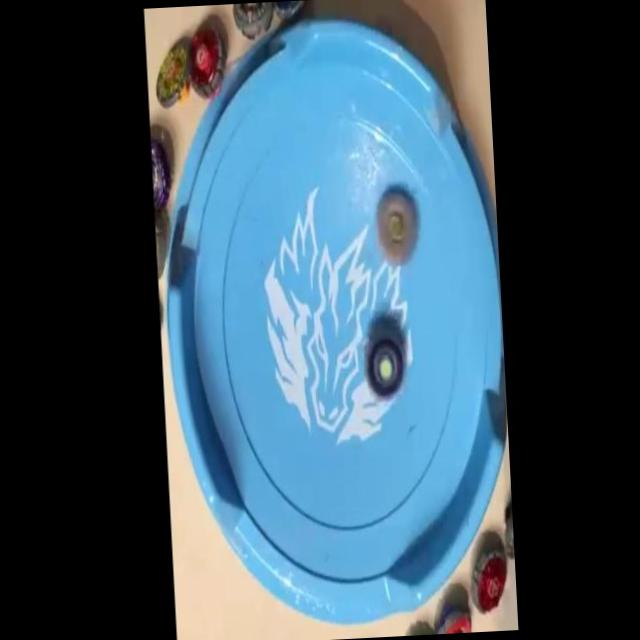Beyblade: (362, 327, 407, 402), (185, 23, 228, 100), (374, 192, 418, 264), (468, 544, 511, 617), (153, 38, 193, 108)
